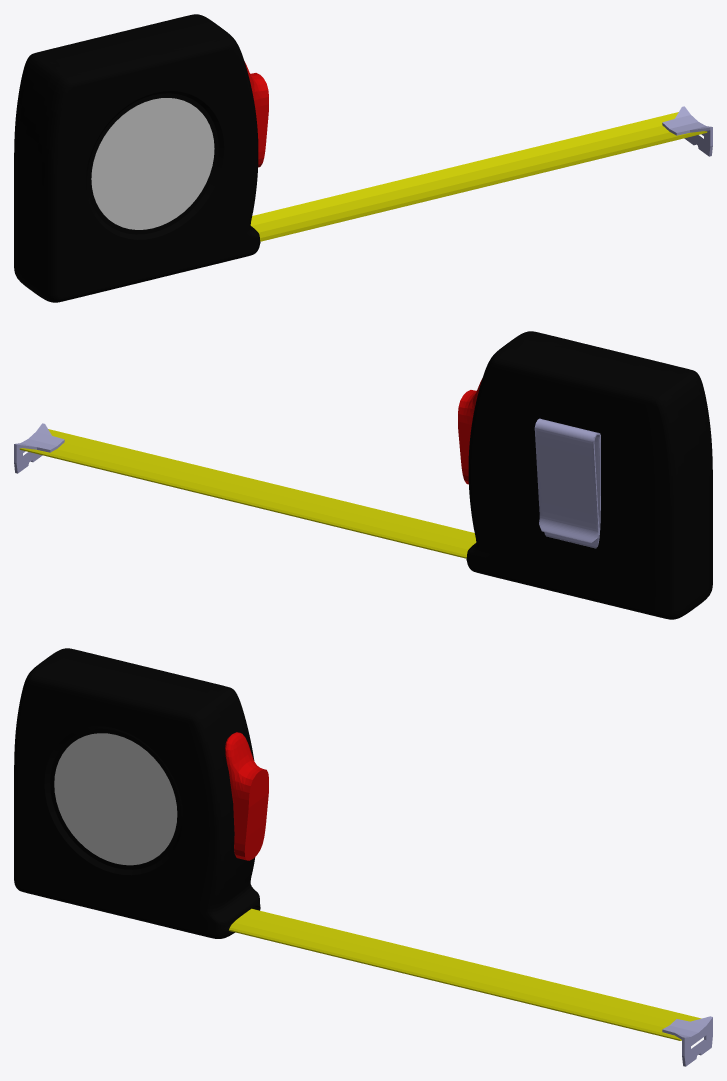
Rendered from tape-measure.obj.
The picture shows the model from 3 angles, top to bottom: view 1: azimuth 30°, elevation 25°; view 2: azimuth 150°, elevation 25°; view 3: azimuth 330°, elevation 25°; orthographic projection.
Visible parts, largest first — view 1: Tape_measure, ruler; view 2: Tape_measure, ruler; view 3: Tape_measure, ruler.
Boxes of the visible parts, bbox=[...] form: Tape_measure: bbox=[14, 14, 268, 302]; ruler: bbox=[250, 106, 712, 241]; Tape_measure: bbox=[458, 331, 712, 619]; ruler: bbox=[14, 423, 476, 558]; Tape_measure: bbox=[14, 648, 268, 938]; ruler: bbox=[229, 908, 712, 1066].
Size of the model in its own units: 1.56 by 0.5361 by 0.1987.
